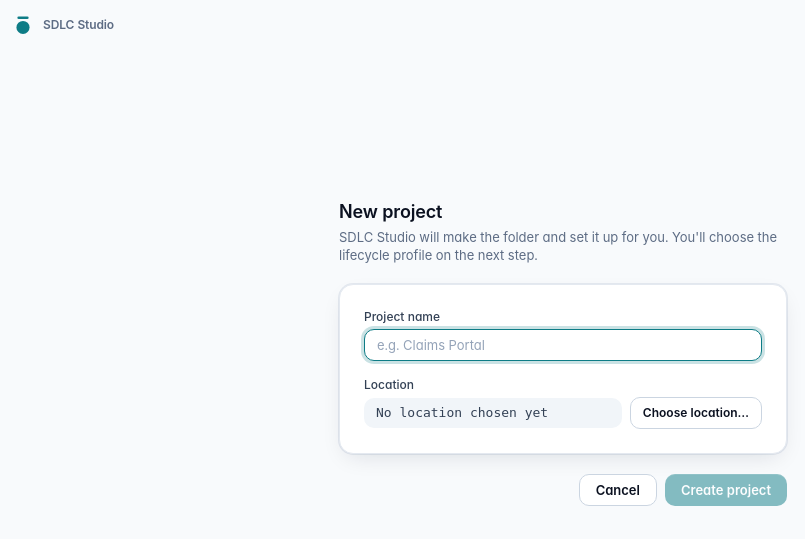
NewProjectScreen › shows exactly where the project will be created before anything is
The width and height of the screenshot is (805, 539).
Click the button "Choose location…".
click(696, 413)  # box [630,397,762,429]
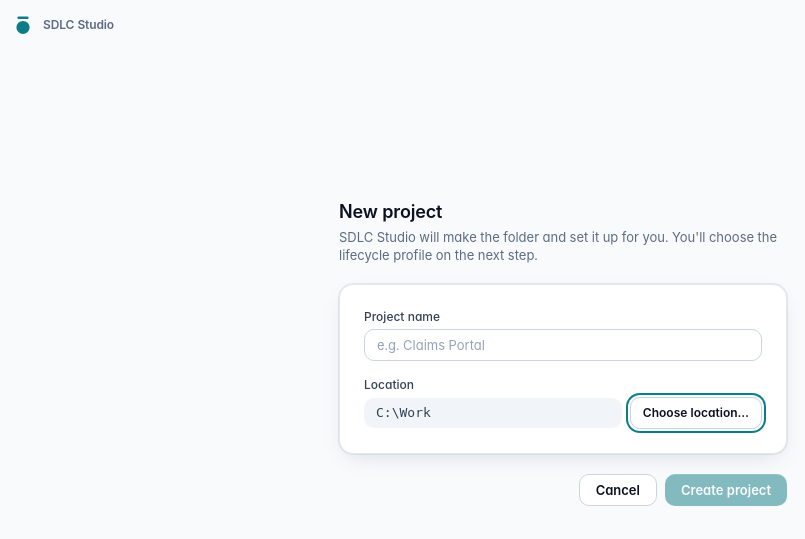
Type "Claims Portal" into the field labelled "Project name".
click(563, 345); type("Claims Portal")  # box [364,329,762,361]
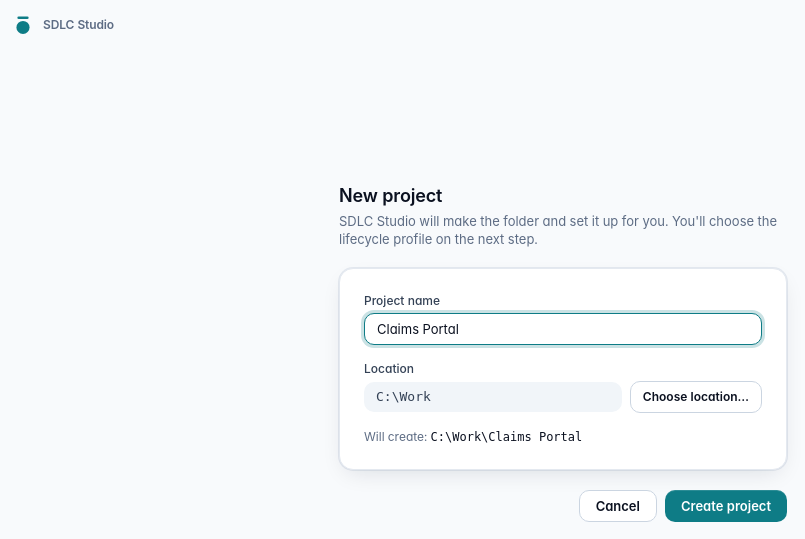
Expected: the text with test id "new-project-target" reads "C:\\Work\\Claims Portal", [430,430,582,444]
